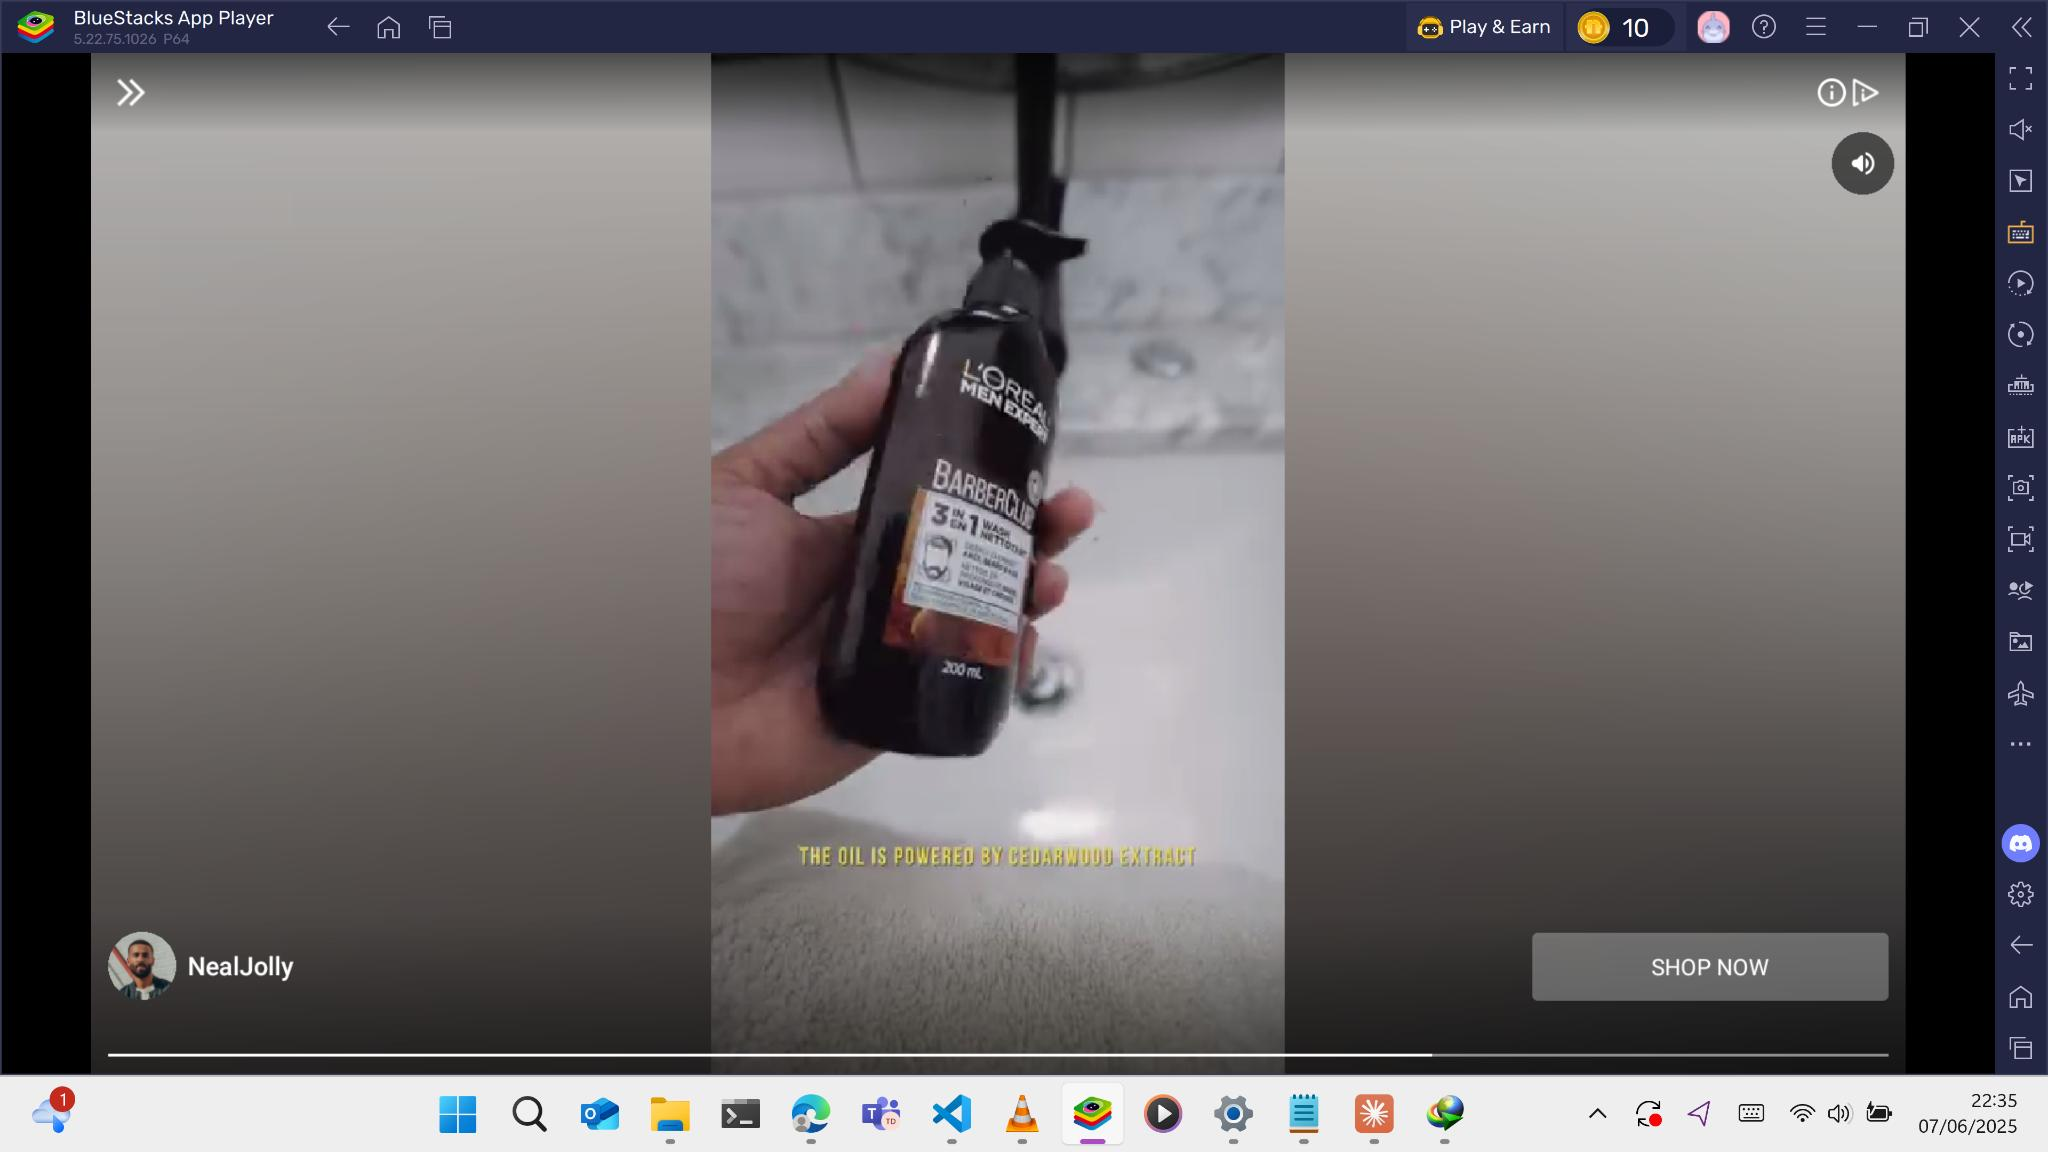skip_ad: (114, 77, 148, 110)
